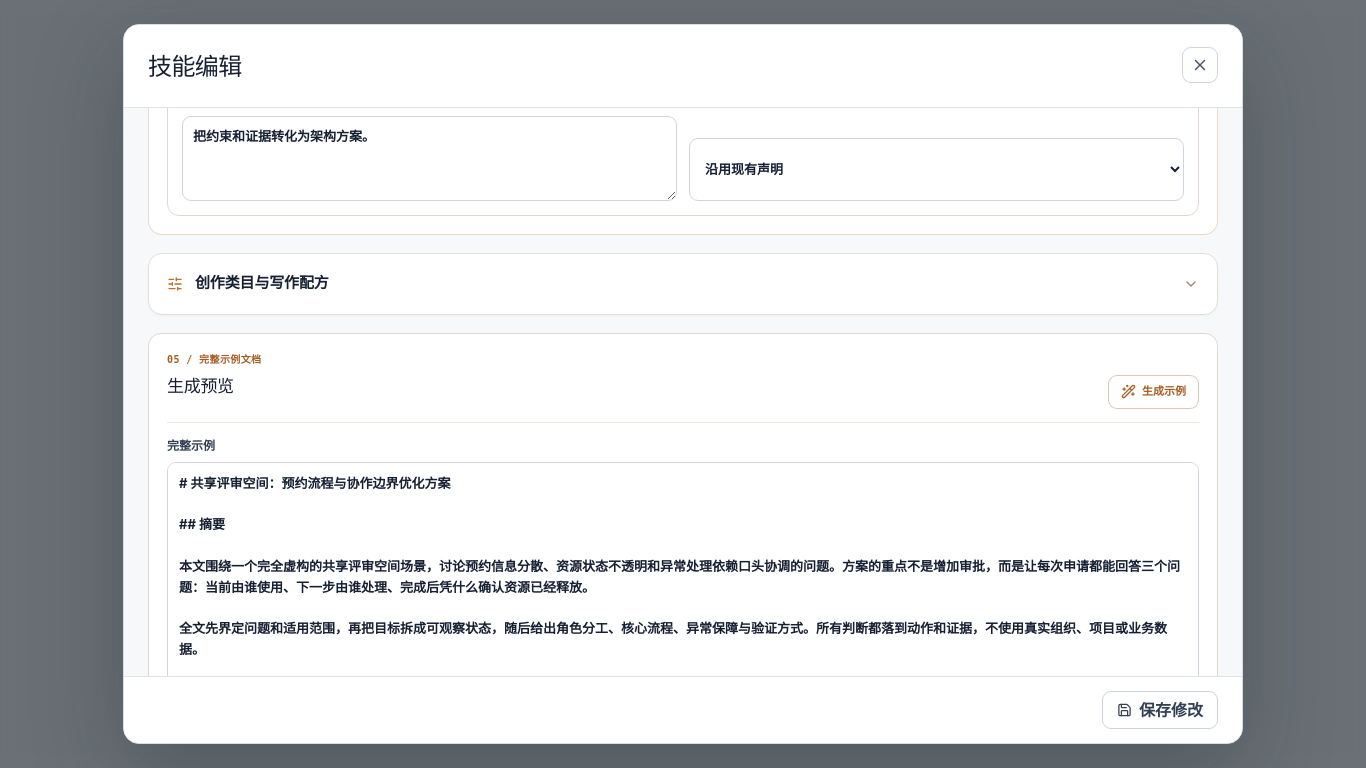
Scenario: 沉淀技能 › 生成示例时把当前配方作为 Skill 交给创作 Agent 即时生成
(page scrolled)
Click the button "生成示例".
click(1154, 392)  # box [1108,375,1199,409]
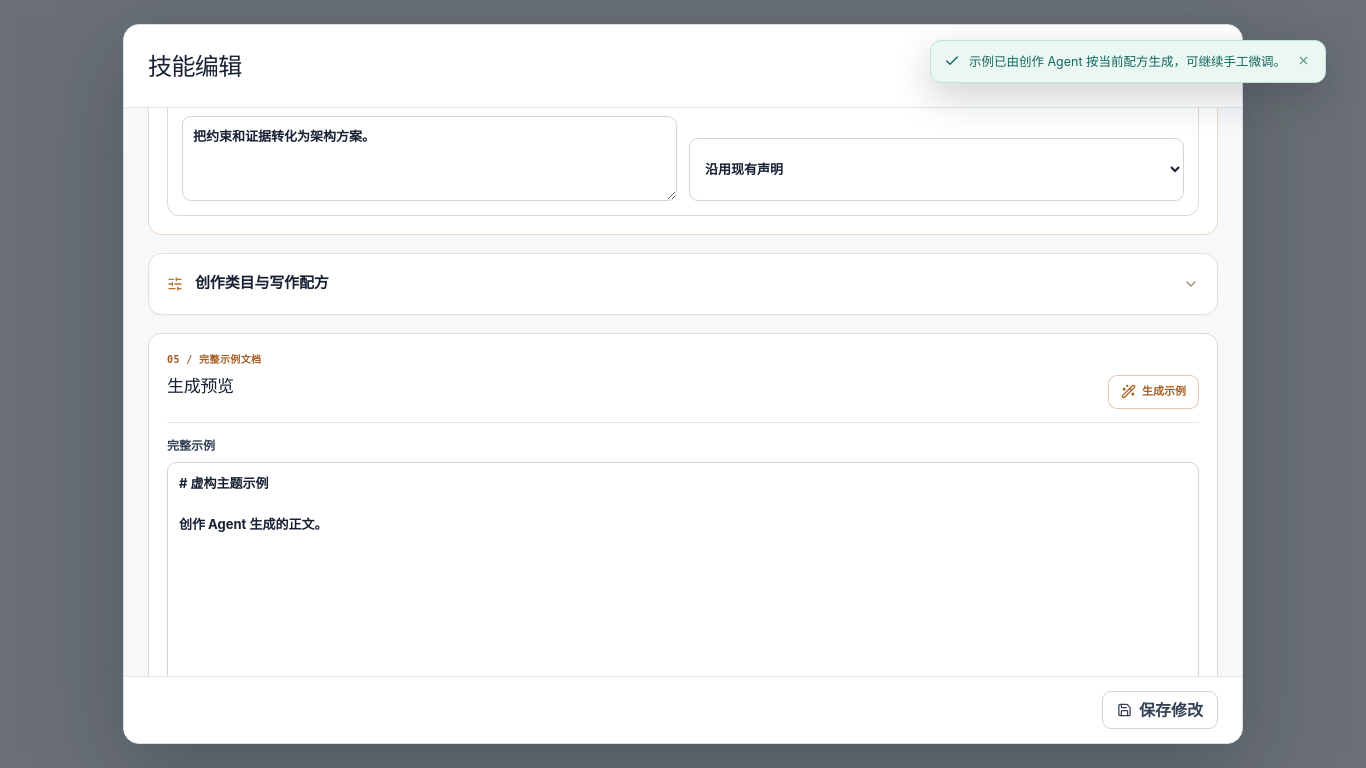
Now the text "示例已由创作 Agent 按当前配方生成，可继续手工微调。" is shown, box [969,52,1286,71]
